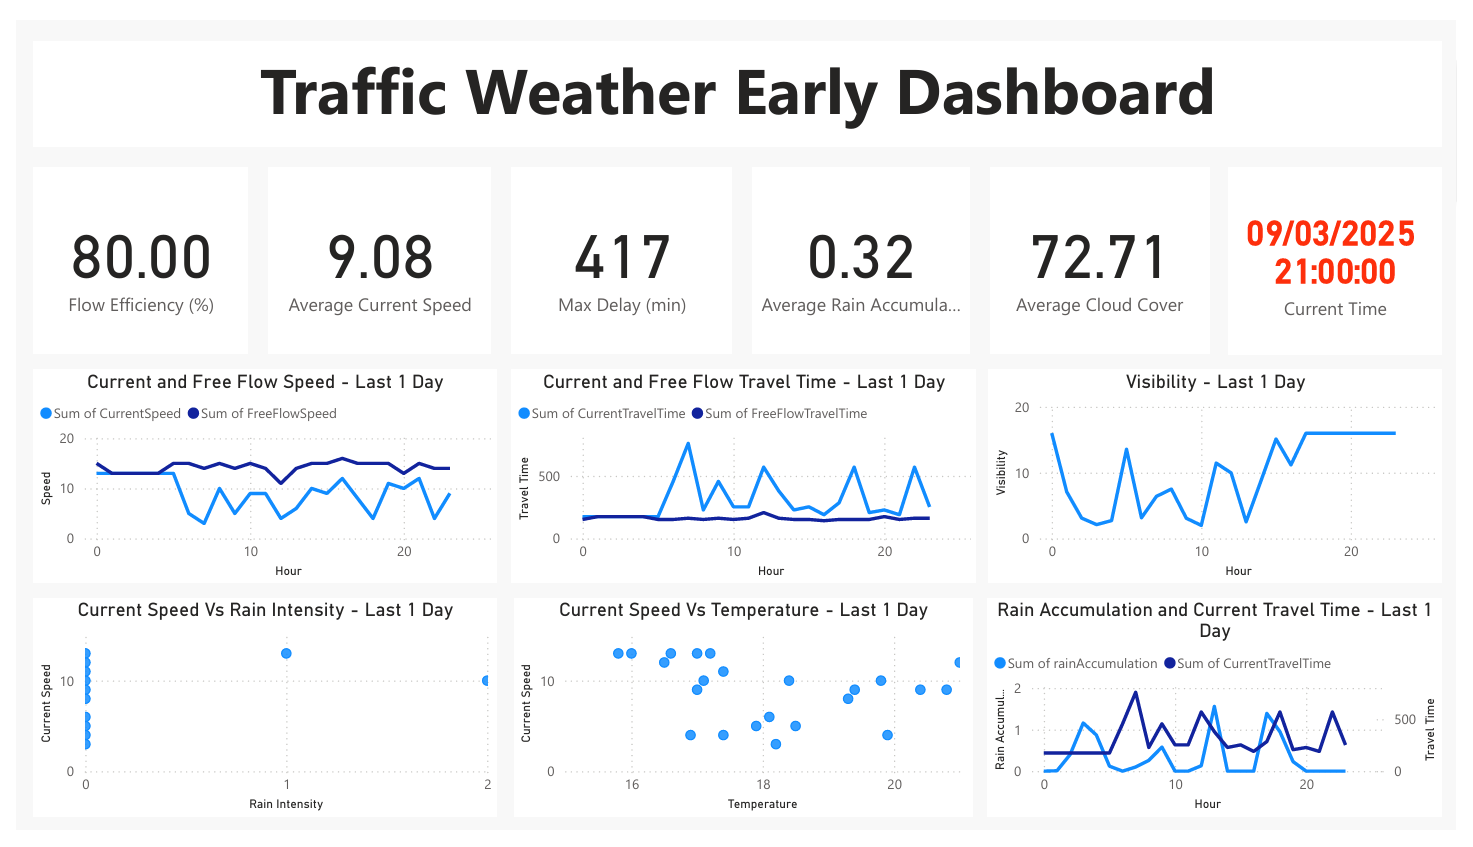

The dashboard page shown, as its layout file describes it:
{"tool":"powerbi","page":{"name":"Page 1","canvas":[1280,720],"ordinal":0},"visuals":[{"type":"lineChart","title":"Current and Free Flow Speed - Last 1 Day","fields":{"Y":["Sum(traffic.flowSegmentData.currentSpeed)","Sum(traffic.flowSegmentData.freeFlowSpeed)"],"Category":["Dim_DateTime.Hour"]},"box":[14.6,310.3,412.7,190.1],"z":0},{"type":"lineChart","title":"Current and Free Flow Travel Time - Last 1 Day","fields":{"Category":["Dim_DateTime.Hour"],"Y":["Sum(traffic.flowSegmentData.currentTravelTime)","Sum(traffic.flowSegmentData.freeFlowTravelTime)"]},"box":[440.3,310.3,412.7,190.1],"z":1000},{"type":"card","fields":{"Values":["traffic.Flow Efficiency (%)"]},"box":[14.6,130,191.7,165.7],"z":2000},{"type":"scatterChart","title":"Current Speed Vs Rain Intensity - Last 1 Day","fields":{"Y":["Sum(traffic.flowSegmentData.currentSpeed)"],"X":["weather.rainIntensity"]},"box":[14.6,513.4,412.7,193.3],"z":3000},{"type":"scatterChart","title":"Current Speed Vs Temperature - Last 1 Day","fields":{"Y":["Sum(traffic.flowSegmentData.currentSpeed)"],"X":["weather.temperature"]},"box":[441.9,513.4,407.8,193.3],"z":4000},{"type":"lineChart","title":"Rain Accumulation and Current Travel Time - Last 1 Day","fields":{"Category":["Dim_DateTime.Hour"],"Y2":["Sum(traffic.flowSegmentData.currentTravelTime)"],"Y":["Sum(weather.rainAccumulation)"]},"box":[862.8,513.4,404.6,193.3],"z":5000},{"type":"lineChart","title":"Visibility - Last 1 Day","fields":{"Y":["Sum(weather.visibility)"],"Category":["Dim_DateTime.Hour"]},"box":[864.4,310.3,402.9,190.1],"z":6000},{"type":"card","fields":{"Values":["traffic.average_current_speed"]},"box":[223.9,130,198.2,165.7],"z":7000},{"type":"card","fields":{"Values":["traffic.Max Delay"]},"box":[439.7,130,196.6,165.7],"z":8000},{"type":"card","fields":{"Values":["weather.Average Rain Accumulation"]},"box":[653.8,130,193.3,165.7],"z":9000},{"type":"card","fields":{"Values":["weather.Average Cloud Cover"]},"box":[864.7,130,195,165.7],"z":10000},{"type":"card","fields":{"Values":["weather.Crrent Precipitation"]},"box":[1077.2,130,190.1,167.4],"z":11000},{"type":"textbox","box":[14.6,17.9,1252.7,94.2],"z":12000}]}

Visuals, with their boxes in screenshot pixels (x1, y1, x2, y2), scaled from the page's 1280x720 canvas onto the 1473x847 screenshot:
"Current and Free Flow Speed - Last 1 Day" lineChart: crop(17, 365, 492, 589)
"Current and Free Flow Travel Time - Last 1 Day" lineChart: crop(507, 365, 982, 589)
card - traffic.Flow Efficiency (%): crop(17, 153, 237, 348)
"Current Speed Vs Rain Intensity - Last 1 Day" scatterChart: crop(17, 604, 492, 831)
"Current Speed Vs Temperature - Last 1 Day" scatterChart: crop(509, 604, 978, 831)
"Rain Accumulation and Current Travel Time - Last 1 Day" lineChart: crop(993, 604, 1459, 831)
"Visibility - Last 1 Day" lineChart: crop(995, 365, 1458, 589)
card - traffic.average_current_speed: crop(258, 153, 486, 348)
card - traffic.Max Delay: crop(506, 153, 732, 348)
card - weather.Average Rain Accumulation: crop(752, 153, 975, 348)
card - weather.Average Cloud Cover: crop(995, 153, 1219, 348)
card - weather.Crrent Precipitation: crop(1240, 153, 1458, 350)
textbox: crop(17, 21, 1458, 132)
